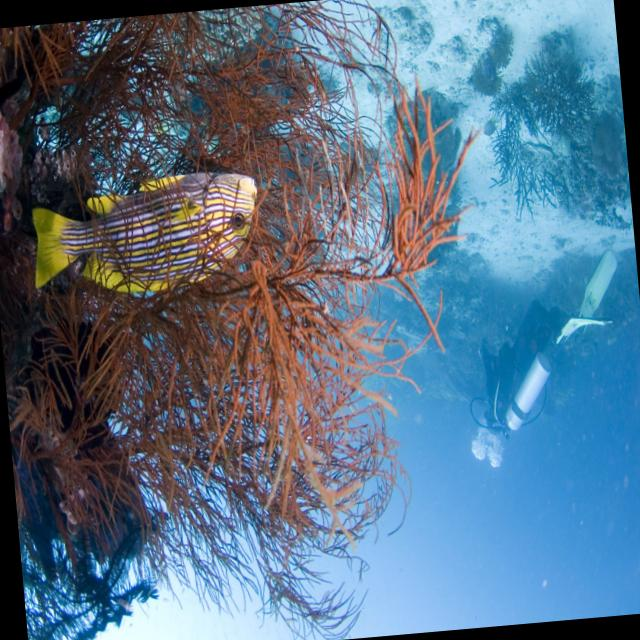RibbonedSweetlips: (24, 162, 266, 306)
